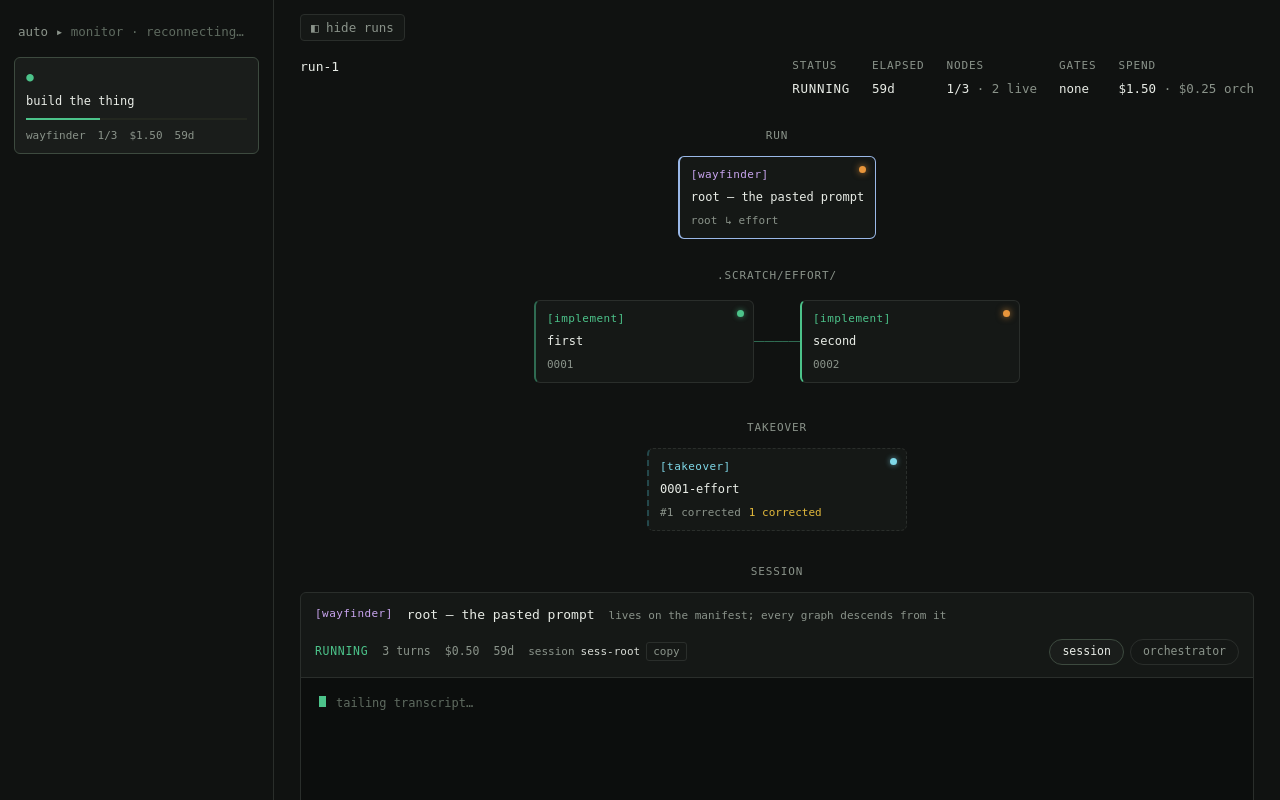
Test: App routing › routes a takeover consultation like any node, when one exists
Expected: the heading "run-1" is shown, [300,57,339,78]
Click the button "takeover 0001-effort #1 corrected 1 corrected": point(695, 466) [647,448,907,531]
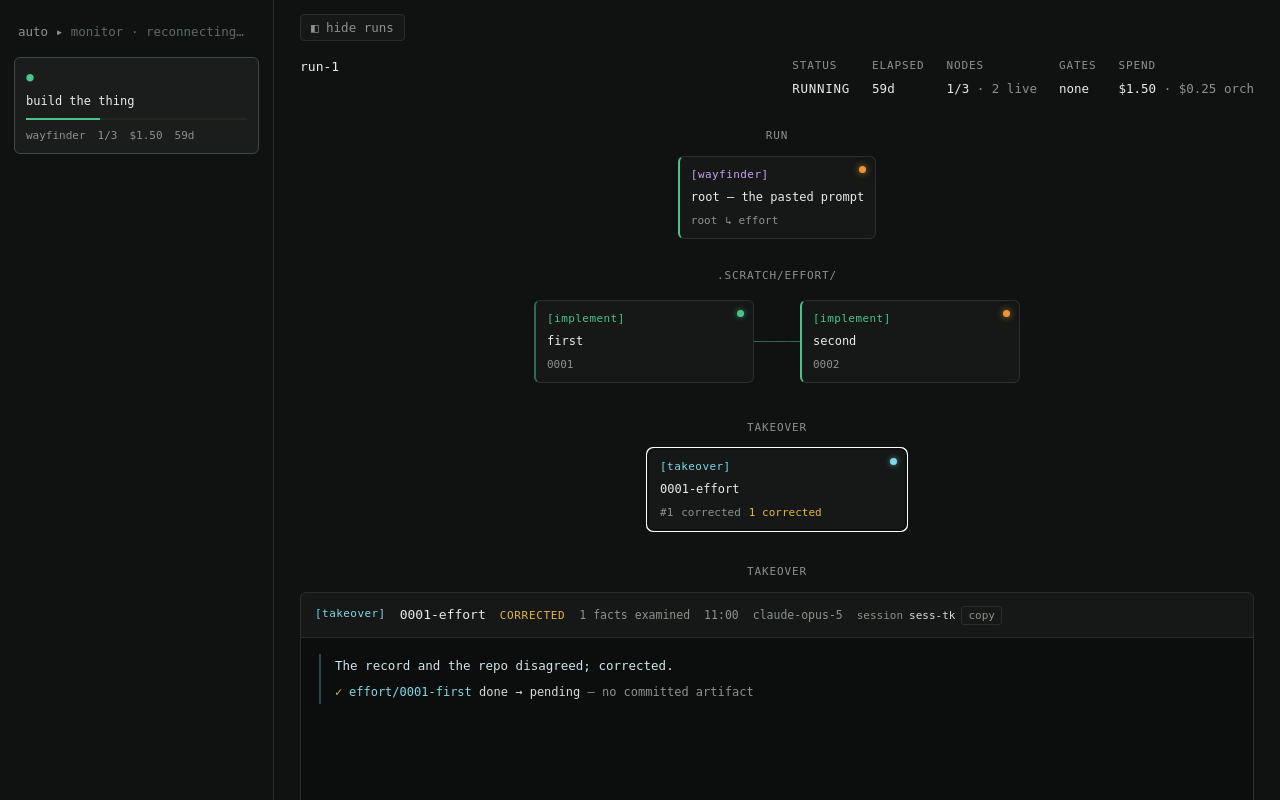
Now the text "The record and the repo disagreed; corrected." is shown, box [335,658,674,673]
